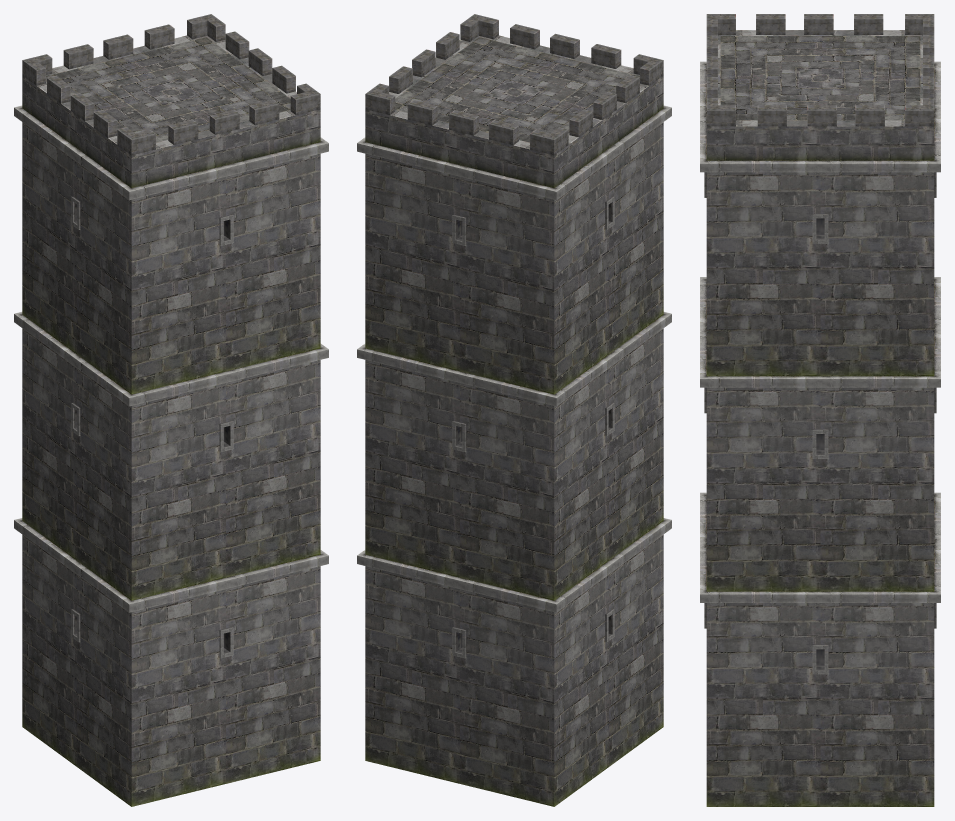
The model's file is CastleSquareColumn02.FBX.
3 renders of one model, left to right at view 1: azimuth 30°, elevation 25°; view 2: azimuth 150°, elevation 25°; view 3: azimuth 270°, elevation 25°, orthographic. The views are drawn at different scales.
Visible parts, largest first — view 1: CastleSquareColumn02; view 2: CastleSquareColumn02; view 3: CastleSquareColumn02.
Part boxes in pixels (<box>): CastleSquareColumn02: <box>14,14,328,806</box>; CastleSquareColumn02: <box>357,14,671,806</box>; CastleSquareColumn02: <box>700,14,940,806</box>.
Size of the model in its own units: 1173 by 3745 by 1173.
